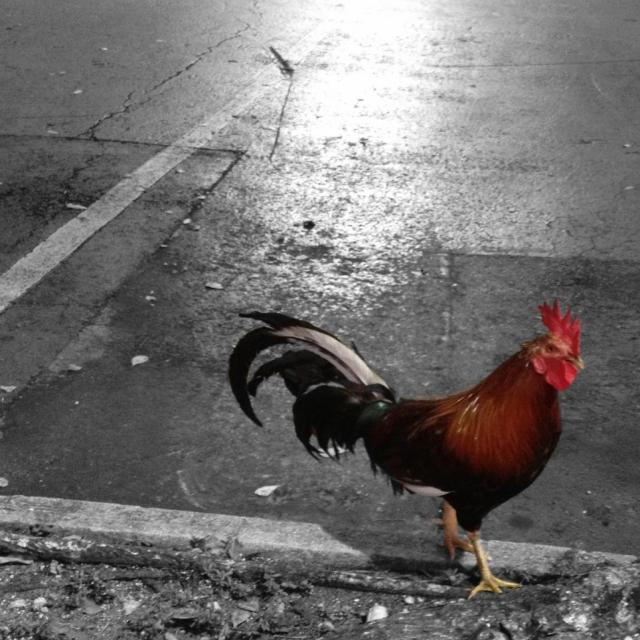Chicken: (271, 288, 606, 602)
